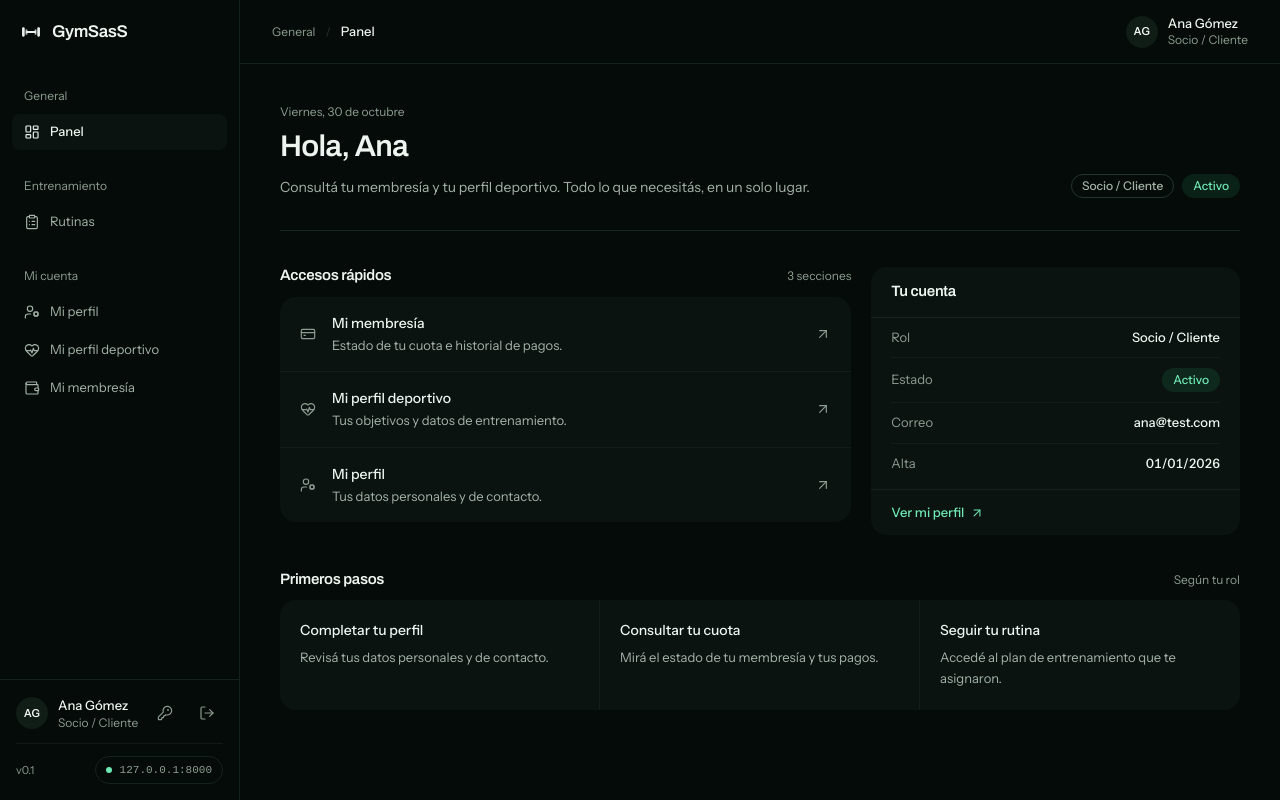
Test case: flujo de autenticación › cambia la contraseña y envía old_password/new_password
Expected: the heading "Hola, Ana" is shown, [280,130,408,162]
Step 1. Click the button named "Cambiar contraseña" → (165,713), box [149,697,181,729]
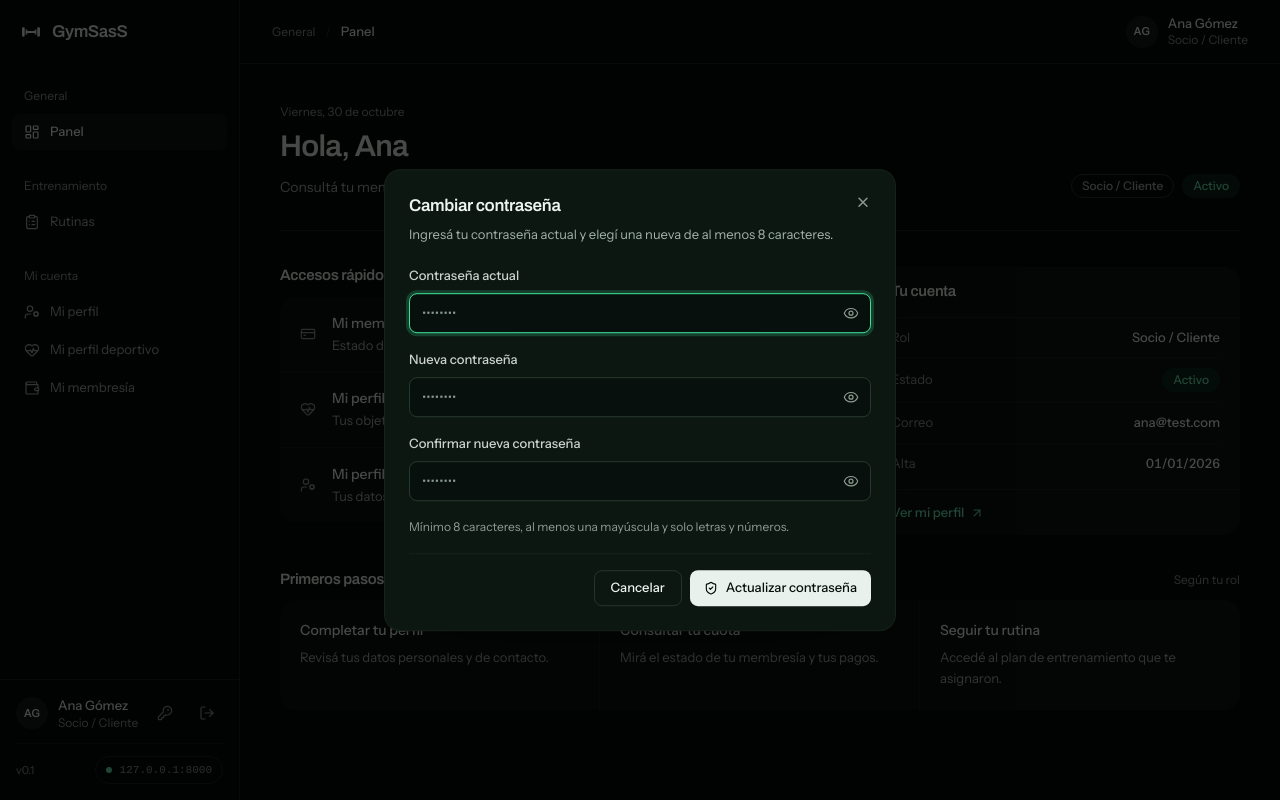
Step 2. Type "secreta123" into the password field labelled "Contraseña actual" → (640,313), box [409,293,871,333]
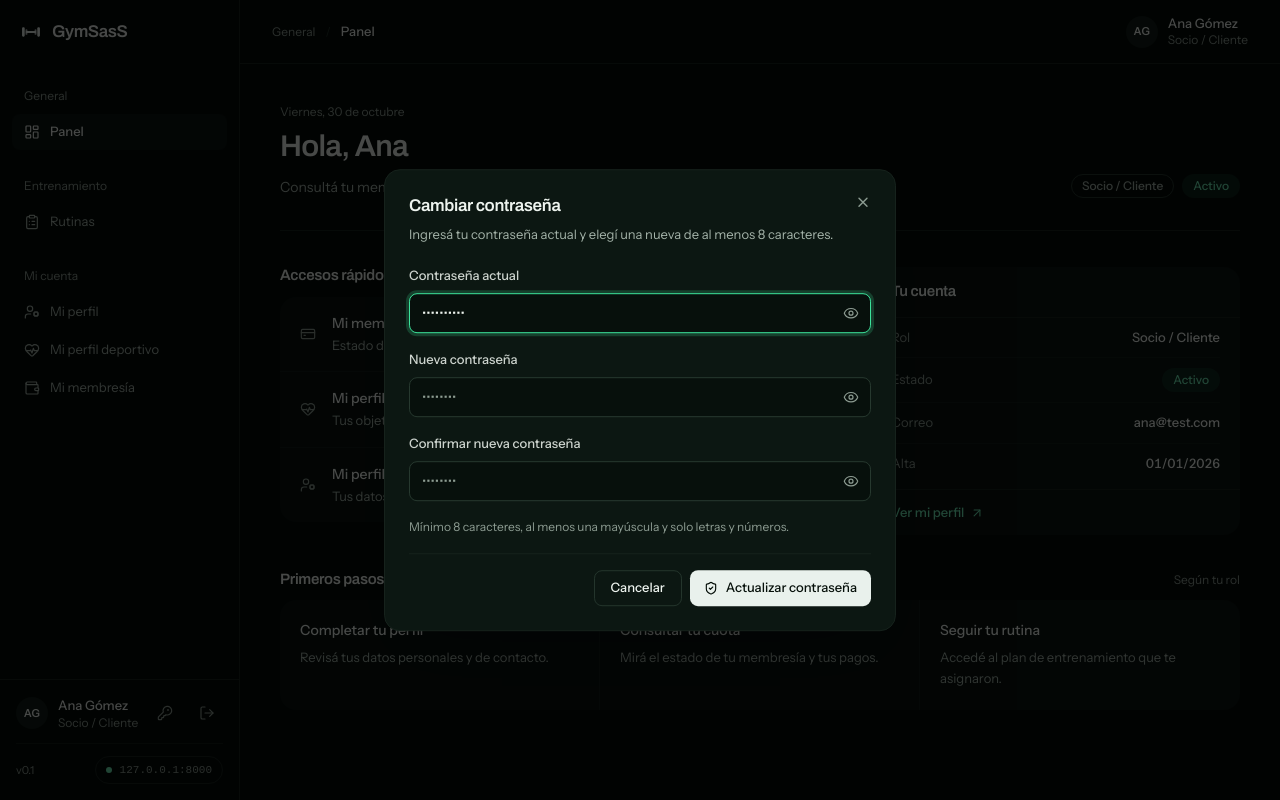
Step 3. Type "Nueva1234" into the password field labelled "Nueva contraseña" → (640,397), box [409,377,871,417]
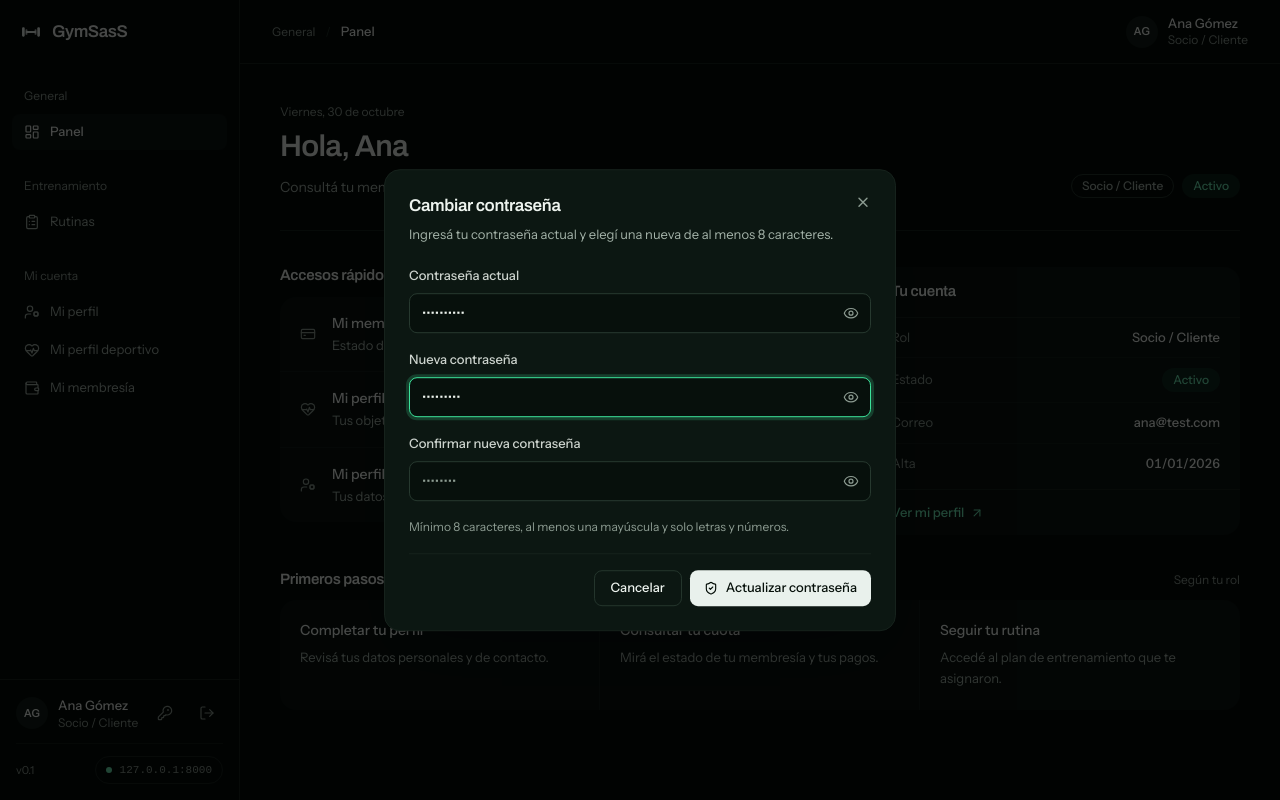
Step 4. Type "Nueva1234" into the password field labelled "Confirmar nueva contraseña" → (640,481), box [409,461,871,501]
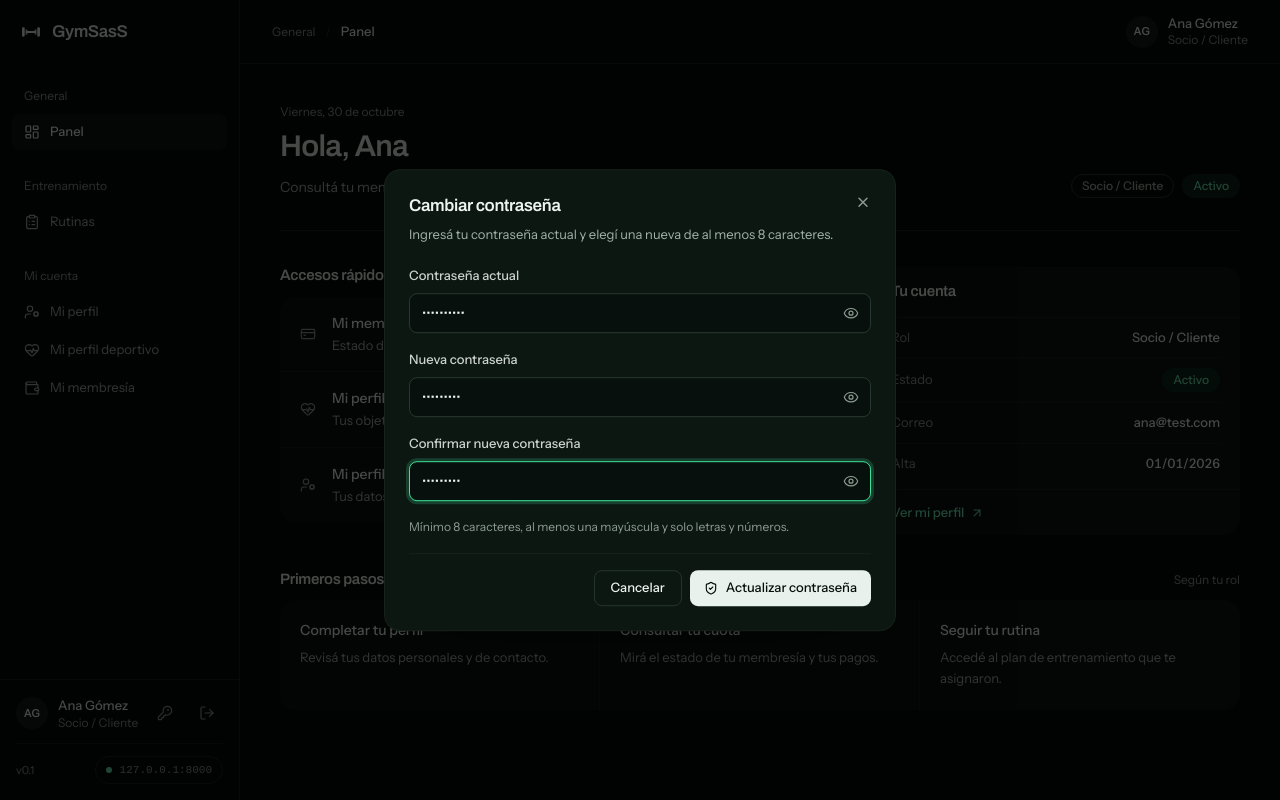
Step 5. Click the button "Actualizar contraseña" → (780,588), box [690,570,871,606]
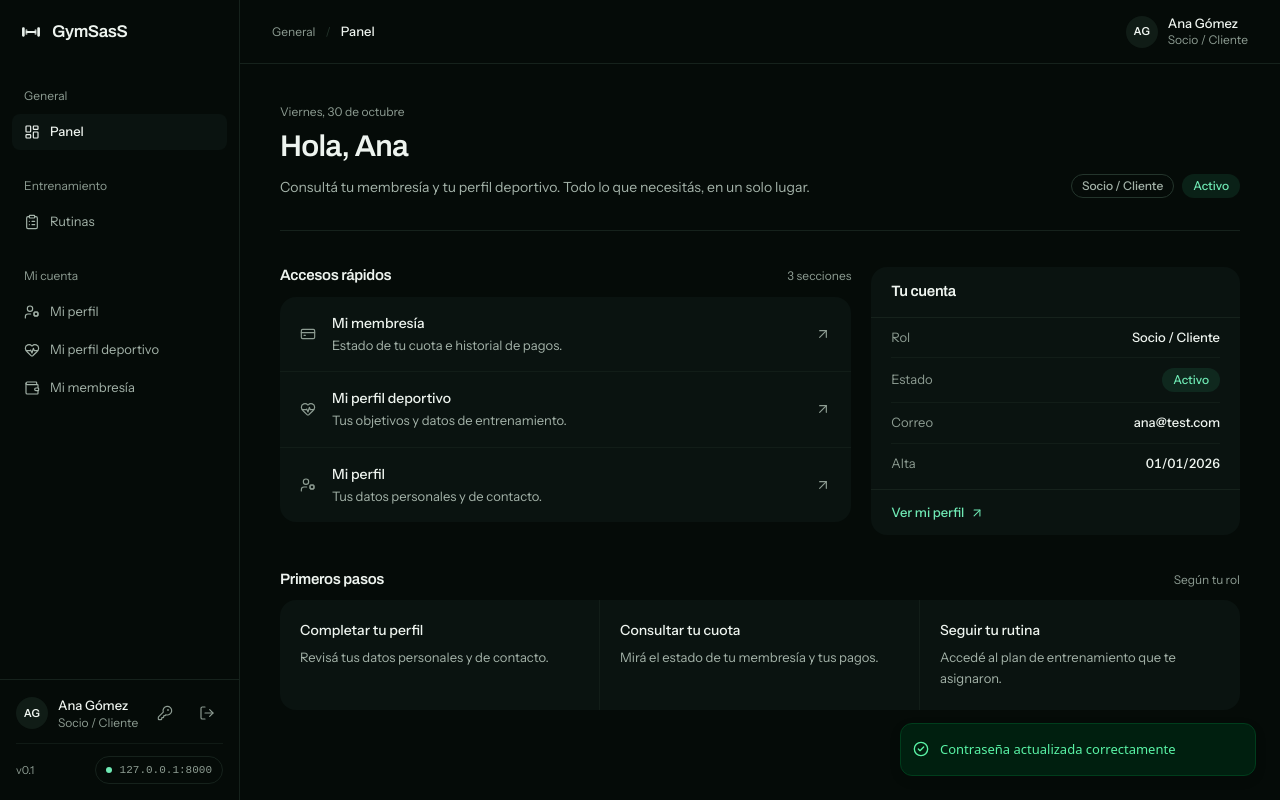
Result: the text "Contraseña actualizada correctamente" is shown at [940,740,1176,759]
